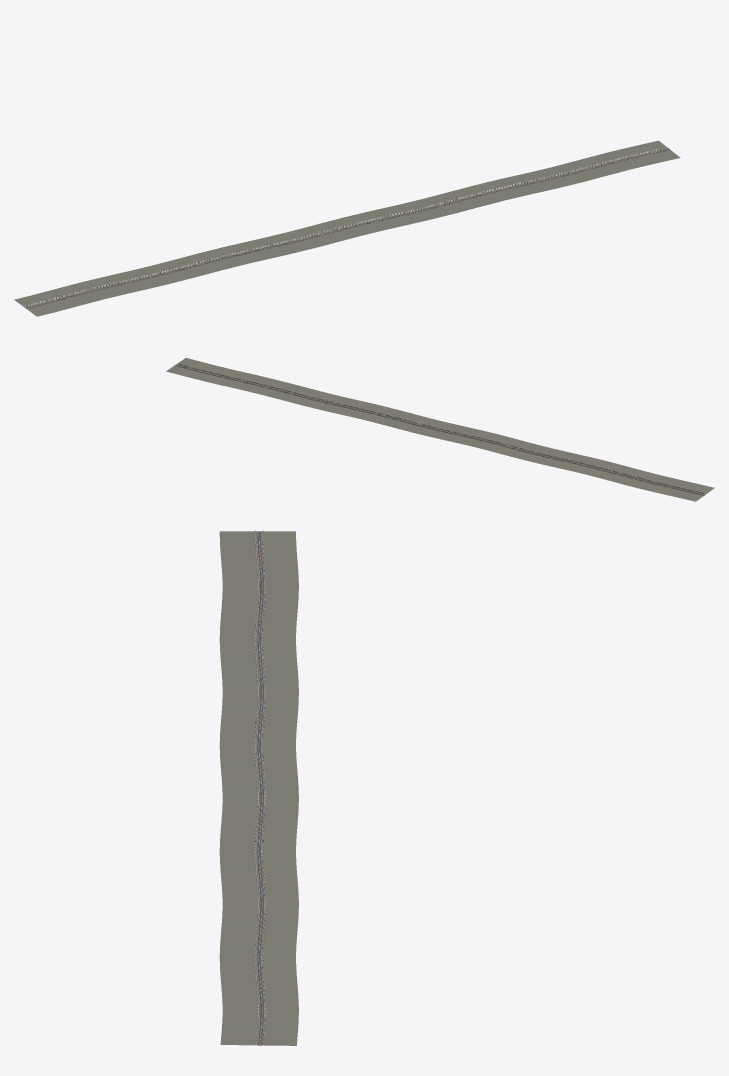
The model's file is nuevedejulio.glb.
3 renders of one model, top to bottom at view 1: azimuth 30°, elevation 25°; view 2: azimuth 150°, elevation 25°; view 3: azimuth 270°, elevation 25°, orthographic. The views are drawn at different scales.
Visible parts, largest first — view 1: Land_002, Land_015, Land_001, Land_005, Land_017, Land_016, Land_003, Land_014, Land_018, Land_012, Land_006, Land_000 (+7 smaller); view 2: Land_004, Land_001, Land_005, Land_008, Land_000, Land_006, Land_010, Land_012, Land_014, Land_002, Land_003, Land_009 (+7 smaller); view 3: Land_015, Land_005, Land_013, Land_009, Land_018, Land_017, Land_011, Land_000, Land_001, Land_002, Land_010, Land_016 (+7 smaller).
Boxes of the visible parts, bbox=[...] form: Land_002: bbox=[81, 274, 136, 299]; Land_015: bbox=[522, 166, 578, 191]; Land_001: bbox=[47, 282, 103, 307]; Land_005: bbox=[182, 249, 238, 274]; Land_017: bbox=[588, 149, 644, 173]; Land_016: bbox=[555, 157, 612, 182]; Land_003: bbox=[116, 266, 171, 291]; Land_014: bbox=[487, 174, 543, 199]; Land_018: bbox=[623, 141, 678, 165]; Land_012: bbox=[420, 191, 476, 216]; Land_006: bbox=[217, 241, 272, 265]; Land_000: bbox=[14, 291, 70, 316]; Land_004: bbox=[557, 453, 603, 474]; Land_001: bbox=[640, 474, 685, 495]; Land_005: bbox=[528, 447, 574, 467]; Land_008: bbox=[446, 426, 491, 446]; Land_000: bbox=[668, 481, 714, 501]; Land_006: bbox=[500, 440, 546, 460]; Land_010: bbox=[389, 413, 435, 433]; Land_012: bbox=[335, 399, 380, 419]; Land_014: bbox=[278, 385, 324, 406]; Land_002: bbox=[612, 468, 657, 488]; Land_003: bbox=[585, 460, 631, 481]; Land_009: bbox=[417, 420, 463, 440]; Land_015: bbox=[219, 933, 296, 963]; Land_005: bbox=[221, 664, 298, 693]; Land_013: bbox=[221, 880, 298, 909]; Land_009: bbox=[221, 771, 298, 801]; Land_018: bbox=[220, 1015, 298, 1044]; Land_017: bbox=[221, 988, 298, 1017]; Land_011: bbox=[219, 826, 296, 855]; Land_000: bbox=[219, 530, 297, 558]; Land_001: bbox=[221, 556, 298, 585]; Land_002: bbox=[221, 583, 298, 612]; Land_010: bbox=[221, 799, 298, 828]; Land_016: bbox=[220, 961, 297, 990].
Size of the model in its own units: 21708 by 1394 by 4326.
